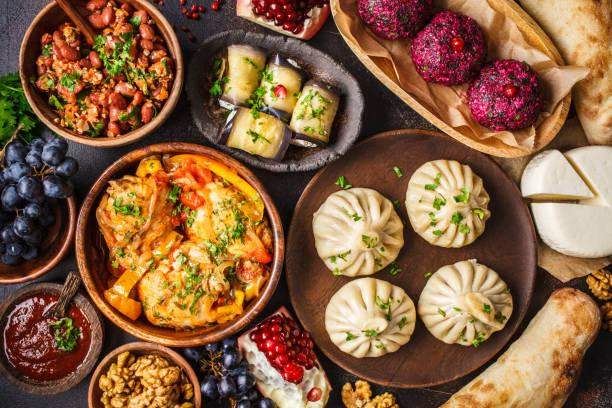Braised Crucian Carp: (288, 130, 535, 387), (74, 143, 278, 345), (340, 0, 579, 155), (183, 27, 359, 173), (21, 1, 183, 148)
